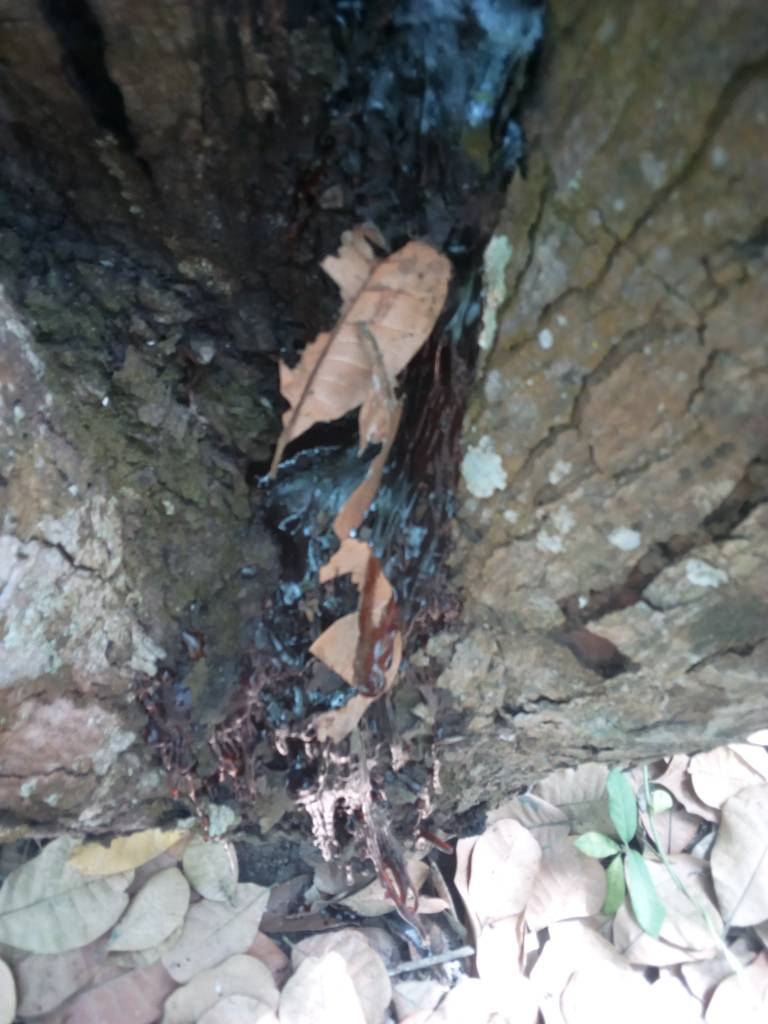Gommose: (186, 41, 472, 832)
